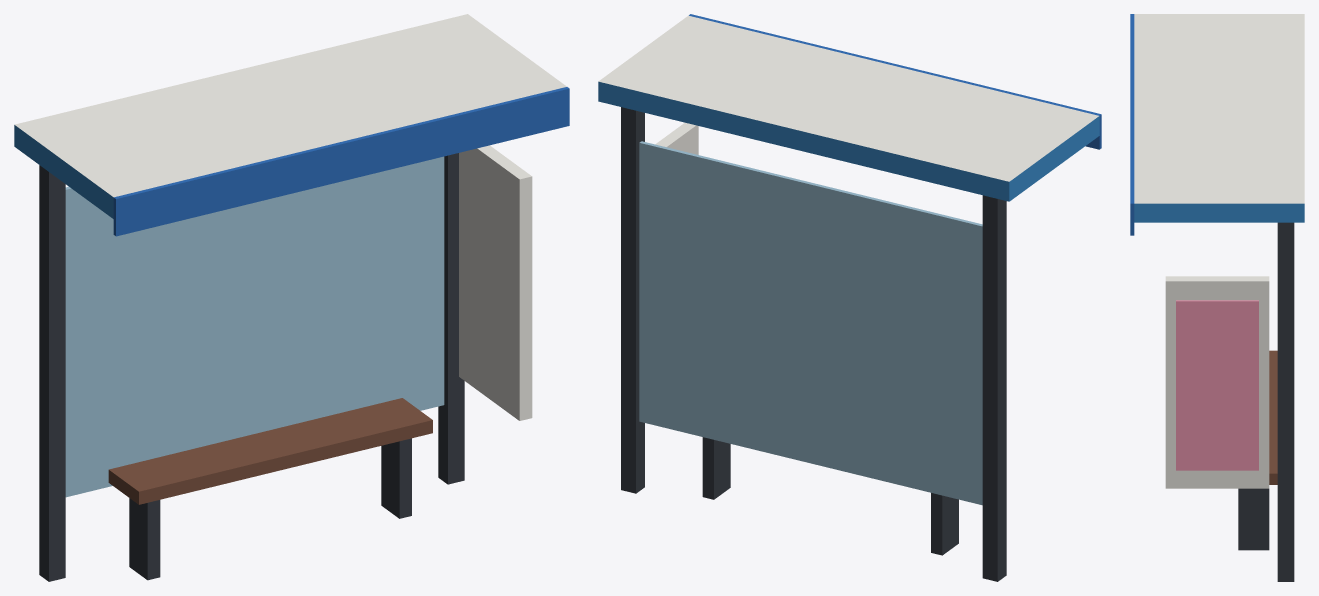
The model's file is P_BusStop2.fbx.
The picture shows the model from 3 angles, left to right: view 1: azimuth 30°, elevation 25°; view 2: azimuth 150°, elevation 25°; view 3: azimuth 270°, elevation 25°; orthographic projection. The views are drawn at different scales.
Visible parts, largest first — view 1: P_BusStop2; view 2: P_BusStop2; view 3: P_BusStop2.
Part boxes in pixels (bbox=[...]): P_BusStop2: bbox=[14, 14, 569, 581]; P_BusStop2: bbox=[598, 14, 1101, 581]; P_BusStop2: bbox=[1130, 14, 1304, 581].
Size of the model in its own units: 2.16 by 2.05 by 0.84.
